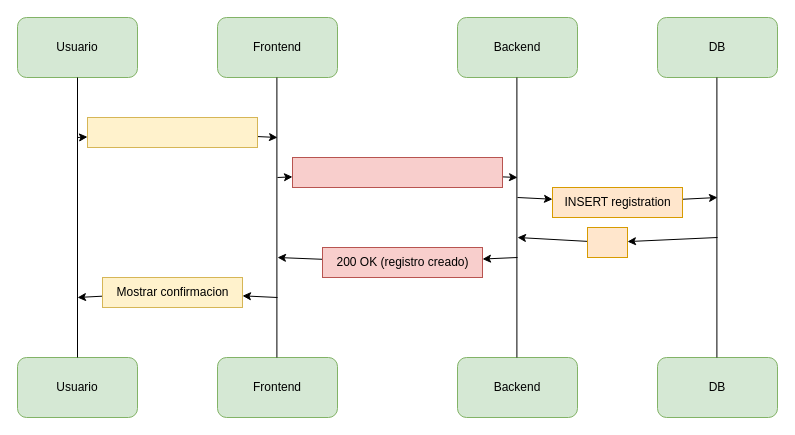
This 795x435 diagram has some shape labels left out. The centre of each missing label's shape, as x and y in pixels:
"OK" goes at point 607,242.
"POST /api/register {user, course_id}" goes at point 397,172.
"Solicita registrarse en curso" goes at point 172,132.
